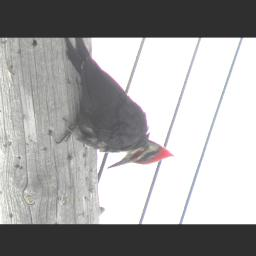Woodpecker: (54, 38, 178, 171)
